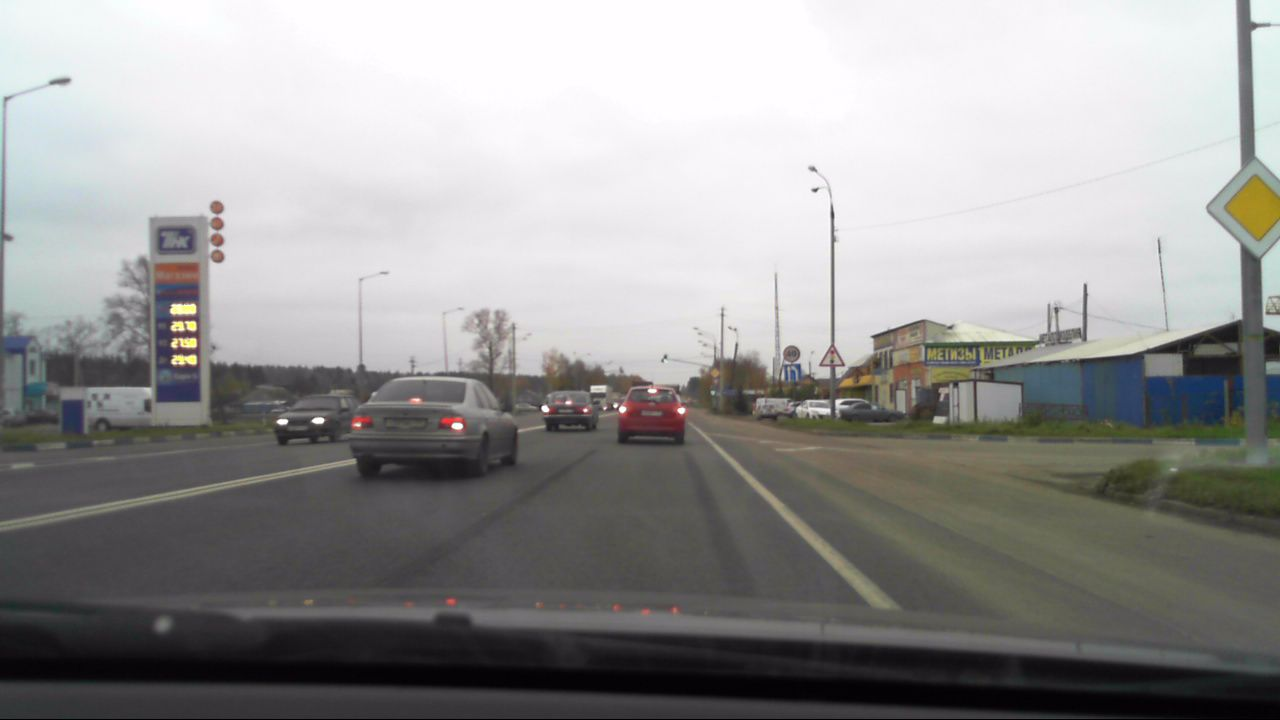speed_warning_40: (781, 343, 802, 362)
